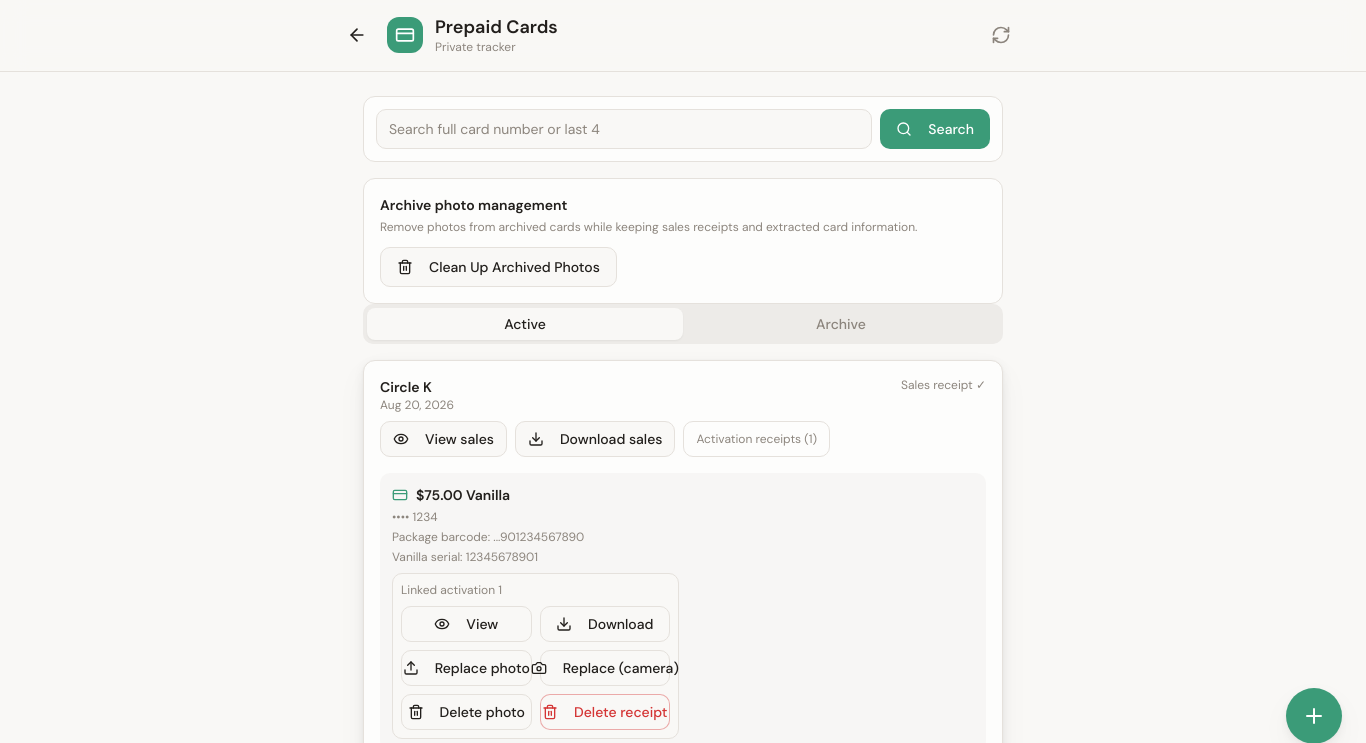
PrepaidCards › deletes an activation photo while preserving its card link and showing no-photo state
Expected: the heading "Circle K" is shown, [380,378,432,396]
Click the button "$75.00 Vanilla" at (443, 494), box [392,484,974,564]
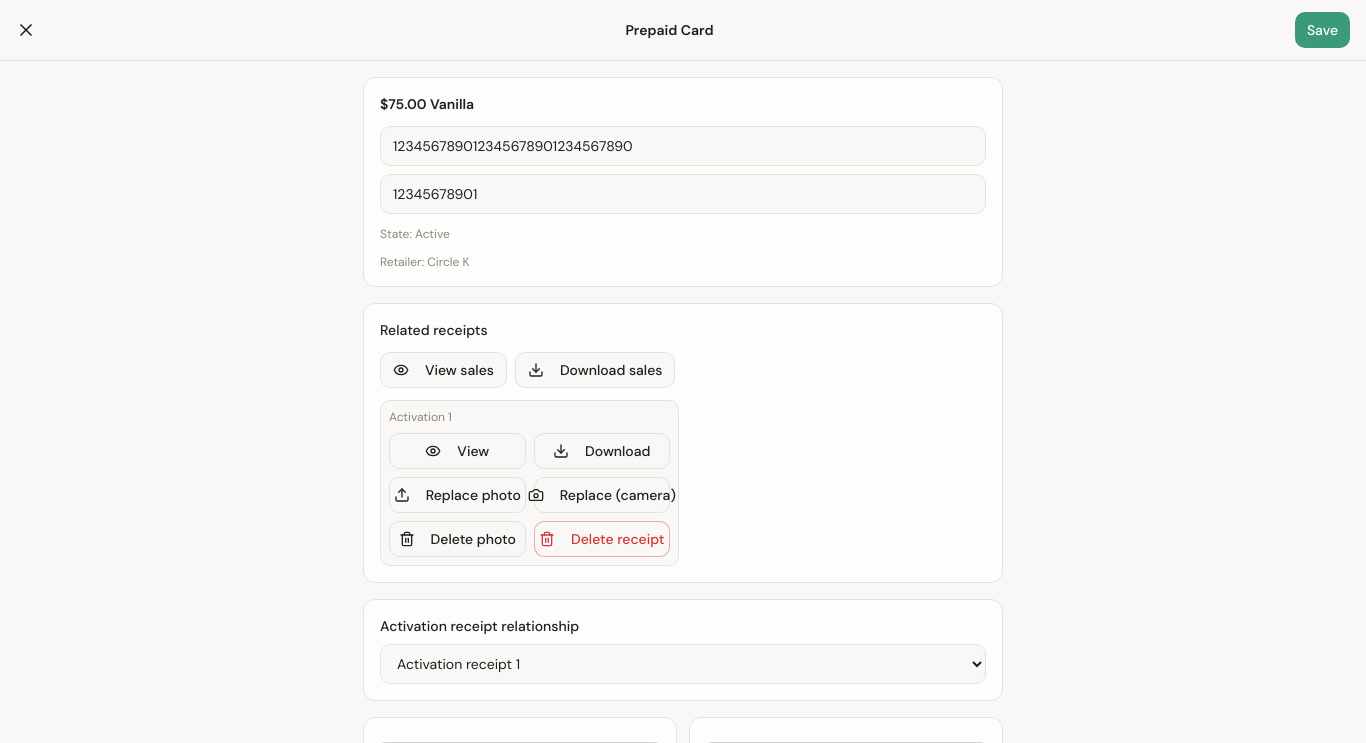
Now the dropdown labelled "Activation receipt relationship" shows "Activation receipt 1", box [380,644,986,684]
Click the button "Delete photo" at (457, 539), box [389,521,526,557]
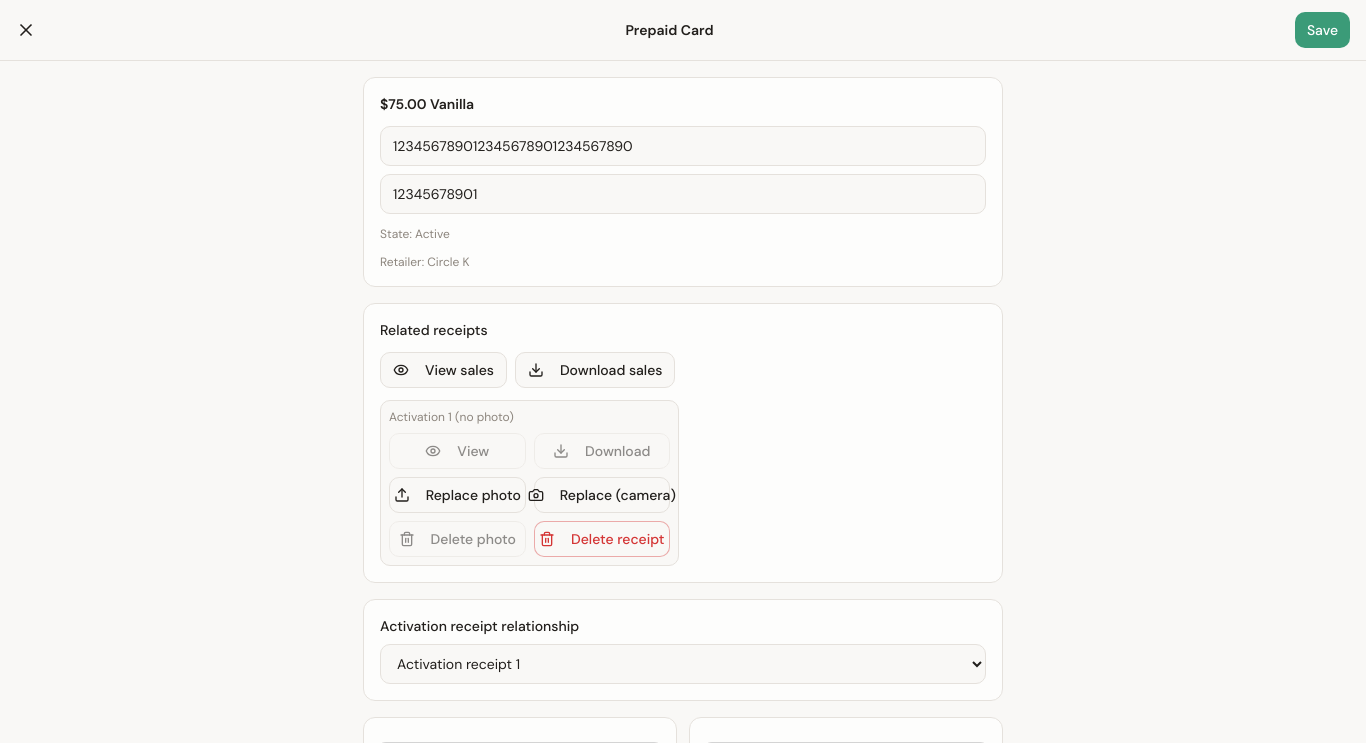
Now the dropdown labelled "Activation receipt relationship" shows "Activation receipt 1", box [380,644,986,684]
Now the text "Activation 1 (no photo)" is shown, box [389,409,514,425]
Now the button "View" is disabled, box [389,433,526,469]
